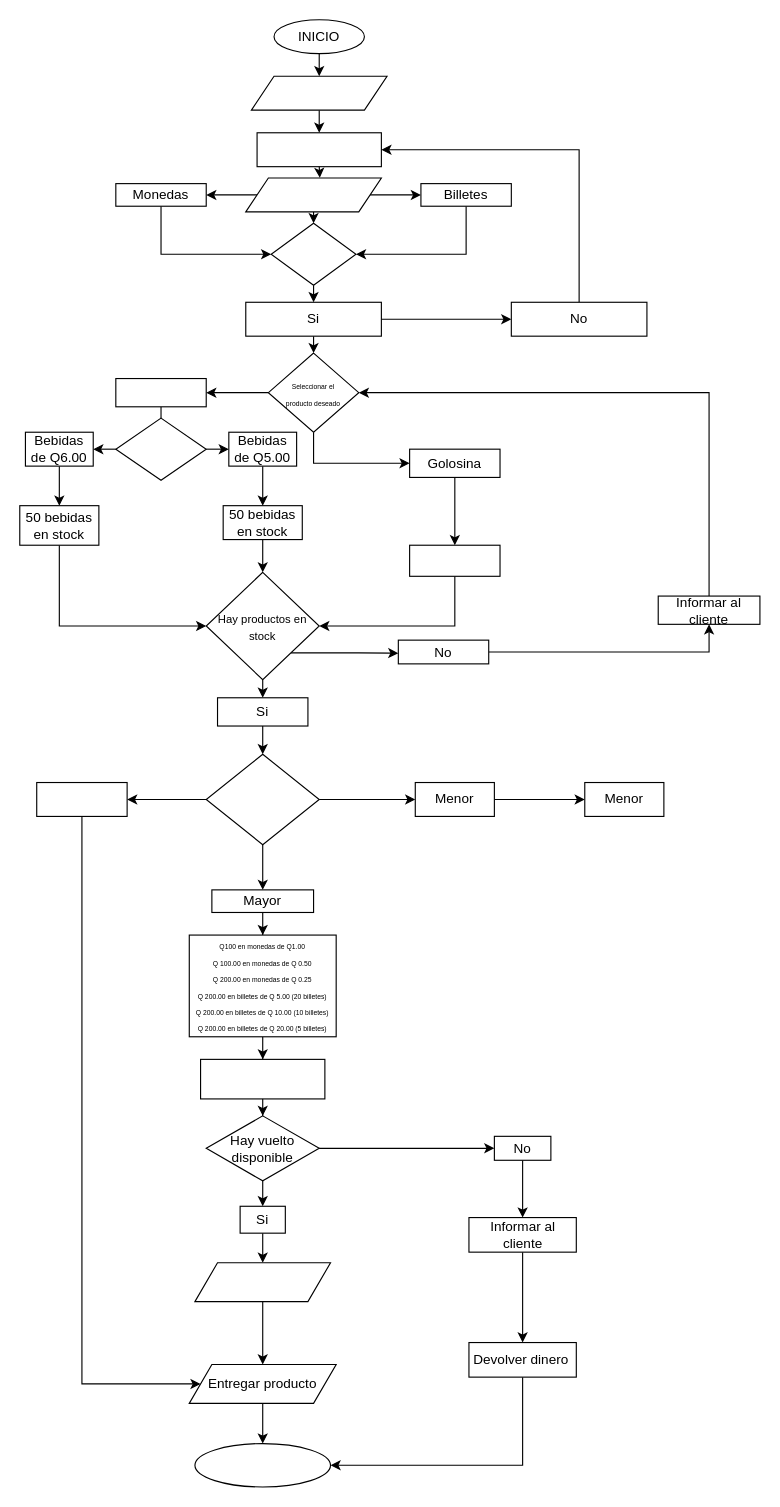
This 780x1507 diagram has some shape labels left out. Each missing label, with the box of its shape:
50 golosinas en stock: (408, 544, 500, 576)
Bebida: (115, 377, 206, 407)
El pago el mayor , igual o menor: (205, 753, 319, 845)
Elegir método de pago: (250, 75, 387, 110)
Entregar vuelto: (194, 1262, 331, 1302)
Es posible pagar así: (270, 222, 356, 285)
FIN: (194, 1442, 331, 1487)
Igual: (36, 781, 127, 816)
Seleccione método de pago: (256, 132, 381, 167)
Valor de bebida: (115, 417, 206, 480)
Vuelto = Pago - Valor del producto: (199, 1058, 325, 1099)
¿Su pago será en?: (245, 177, 381, 212)
